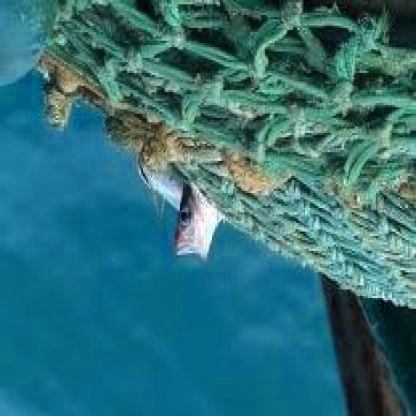net: (70, 2, 416, 296)
